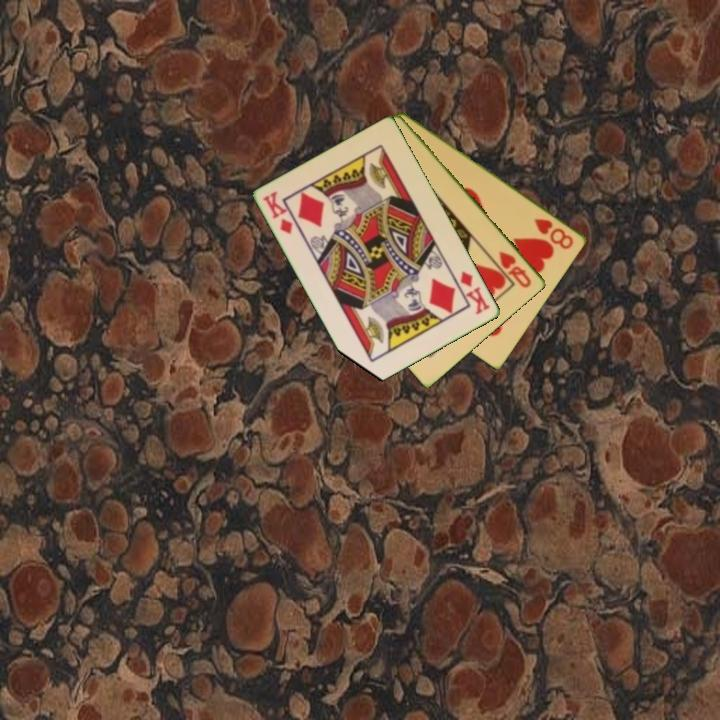8h: (531, 215, 577, 252)
Kd: (457, 268, 494, 318), (259, 188, 296, 237)
Qh: (495, 247, 535, 291)
